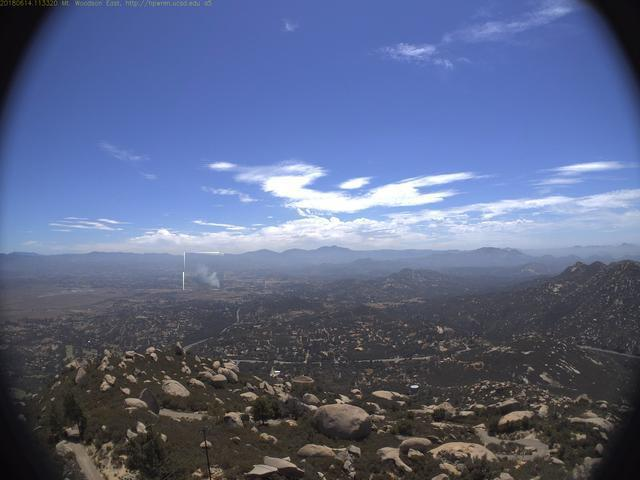smoke: (185, 254, 226, 292)
